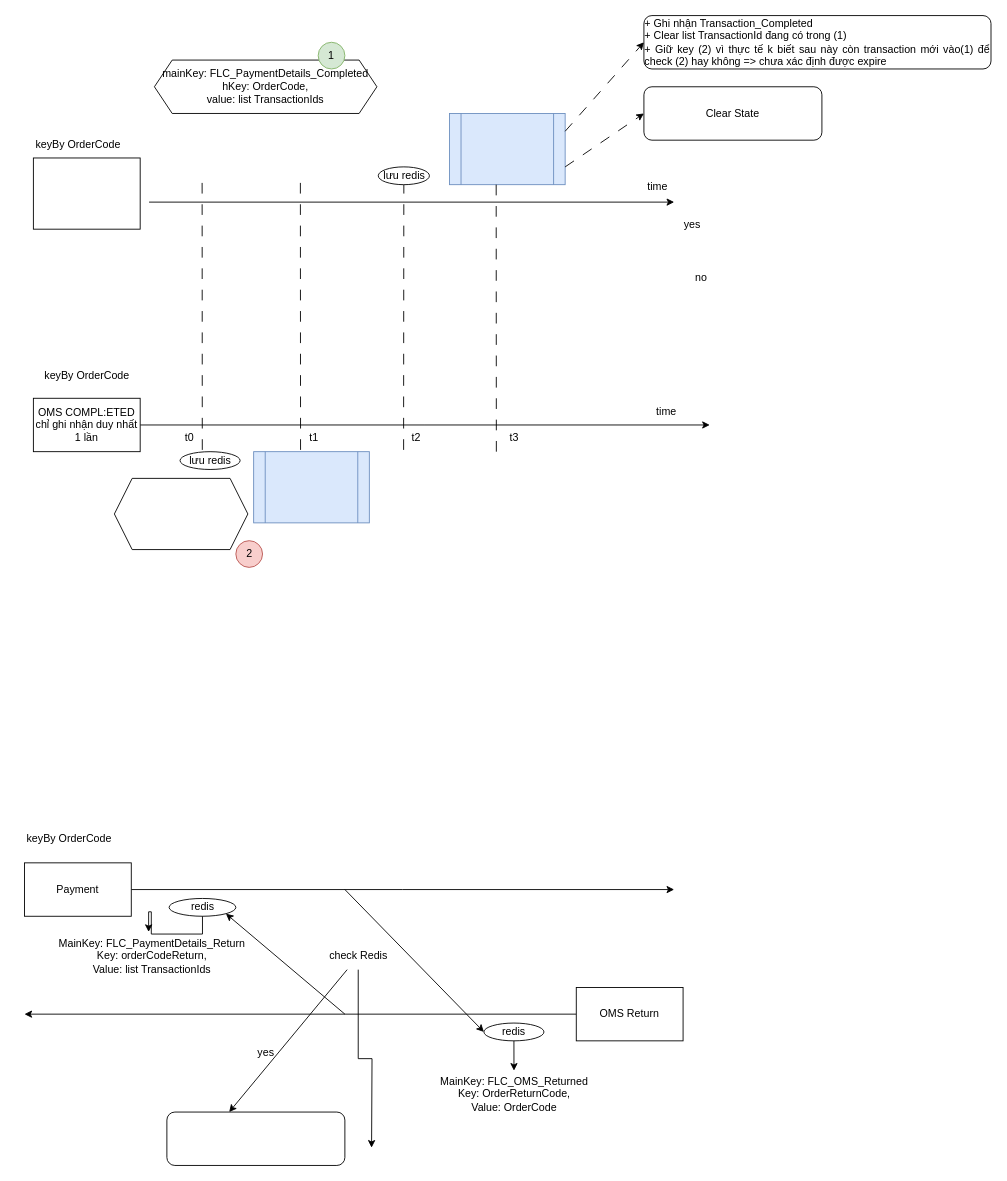
This 1007x1181 diagram has some shape labels left out. The centre of each missing label's shape, as x and y in pixels:
check Redis (1) retry 3 lần, mỗi lần cách nhau n (s) => dùng state, set onTimer: point (311, 487)
check Redis (2) retry 3 lần, mỗi lần cách nhau n (s) => dùng state, set onTimer: point (507, 149)
MainKey: FLC_OMS_Completed Key: OrderCode, Value: "": point (180, 513)
PAYMENT 1 OrderCode ghi nhận nhiều transaction: point (86, 193)
PUT OrderCode Put Transaction_Completed: point (255, 1138)
